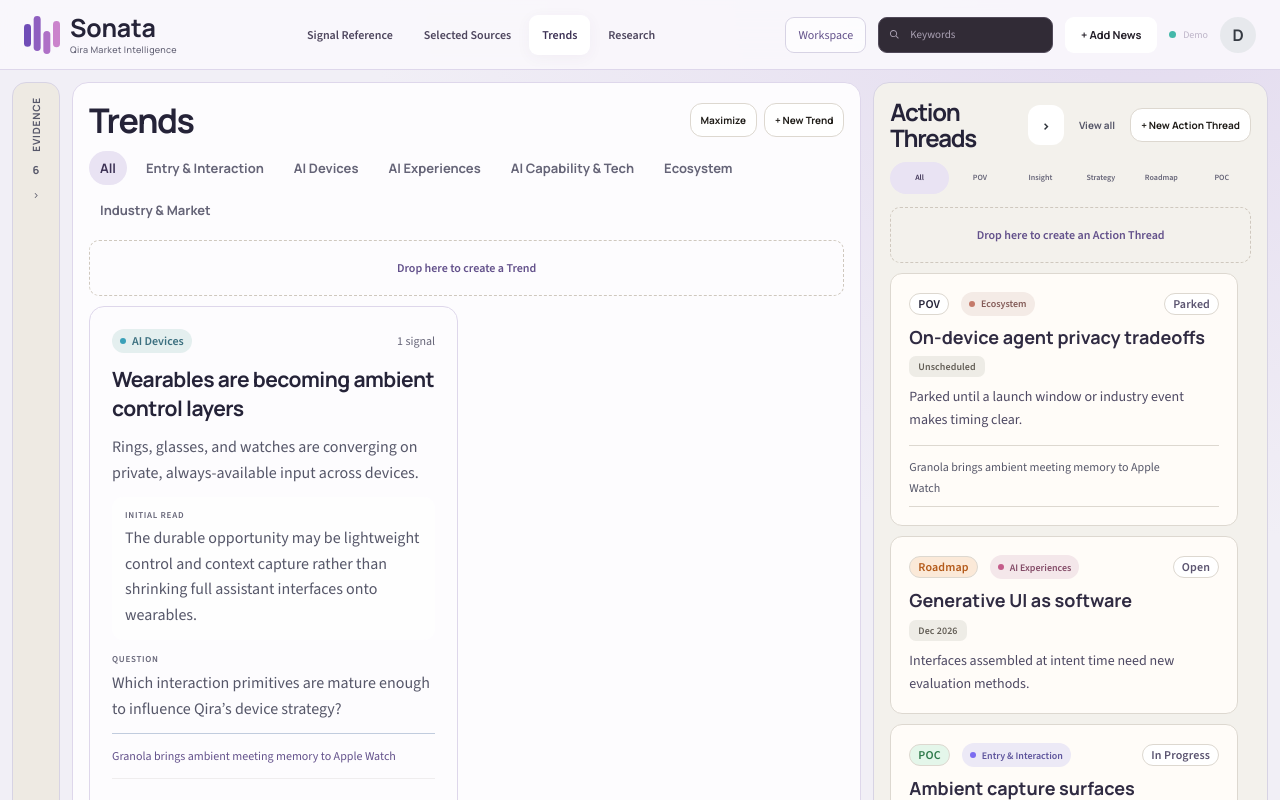
Test case: dashboard pilot shell › folds closed Action Threads below active work in the recent view
Click the heading "Generative UI as software": (1021, 600) top-left (909, 588), bottom-right (1132, 612)
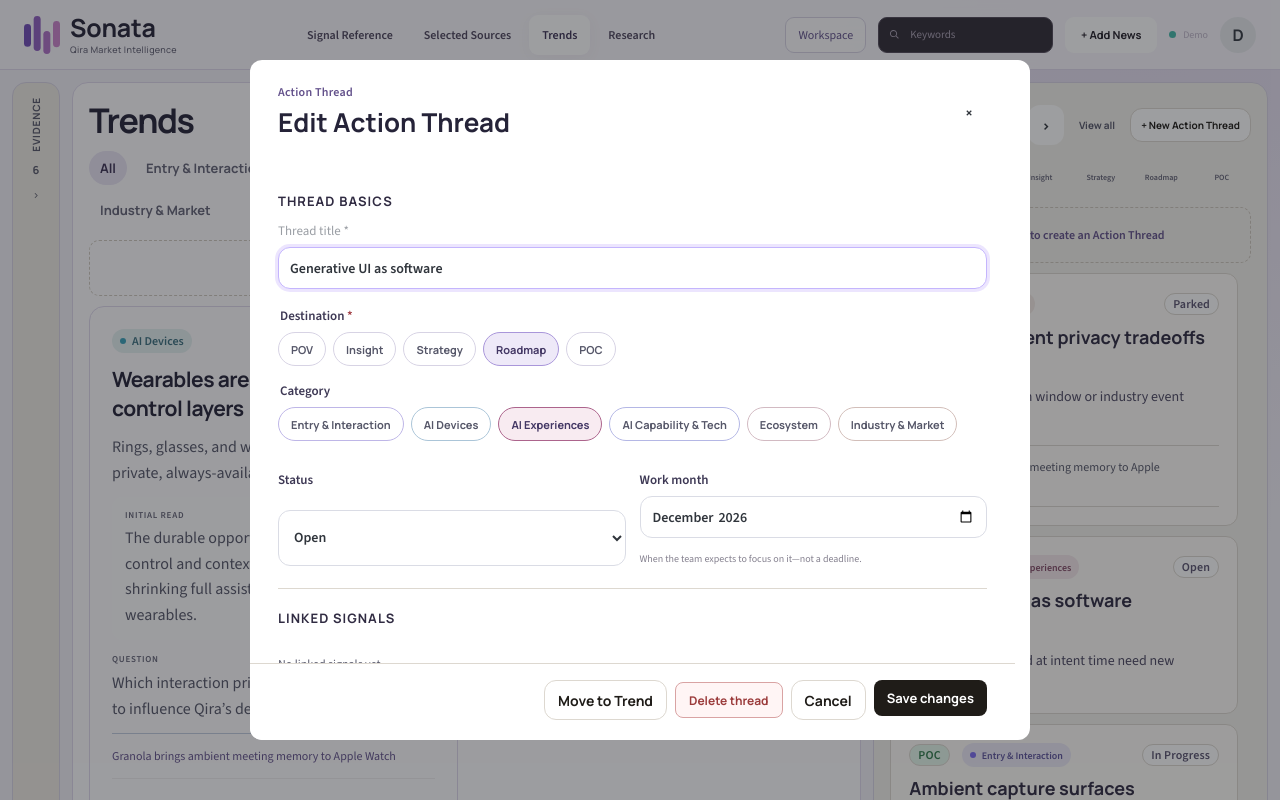
Select "Closed" in the dropdown labelled "Status": (452, 538) top-left (278, 510), bottom-right (626, 566)
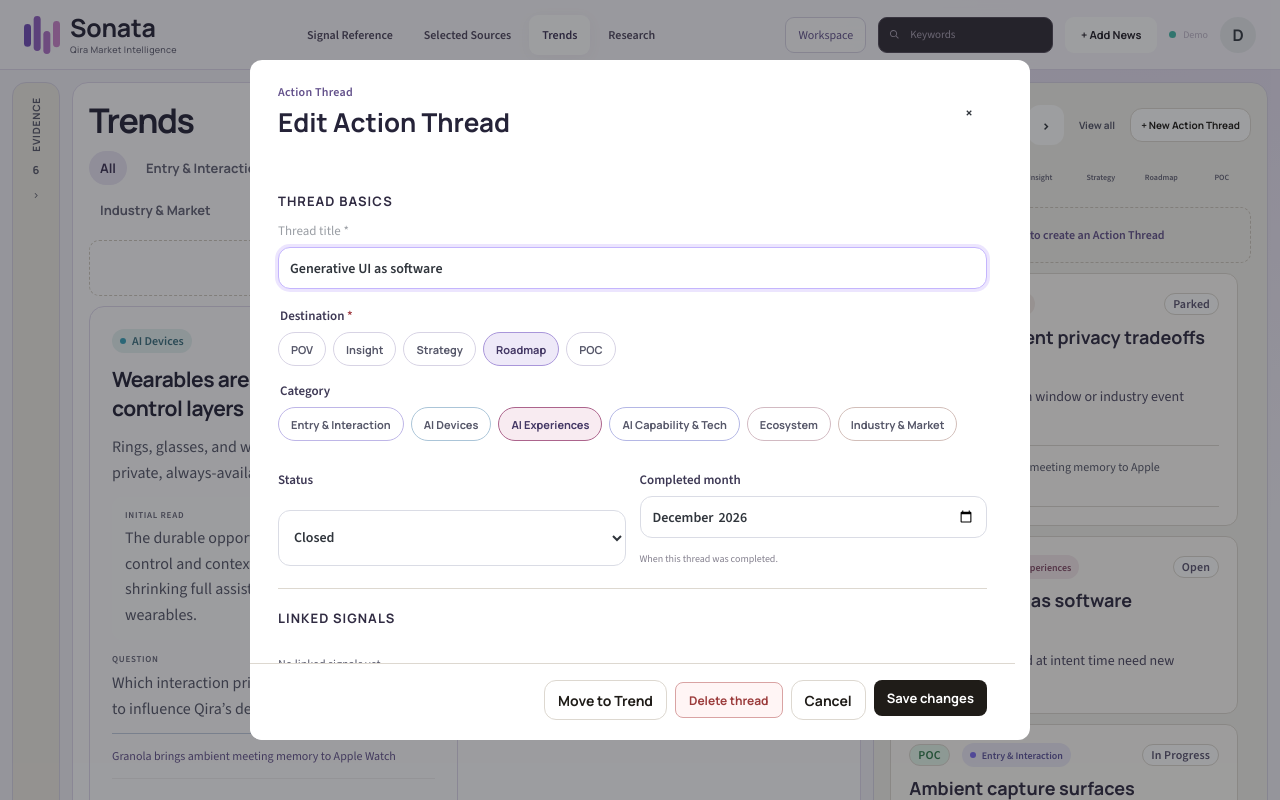
Click the button "Save changes": (930, 698) top-left (874, 680), bottom-right (987, 716)
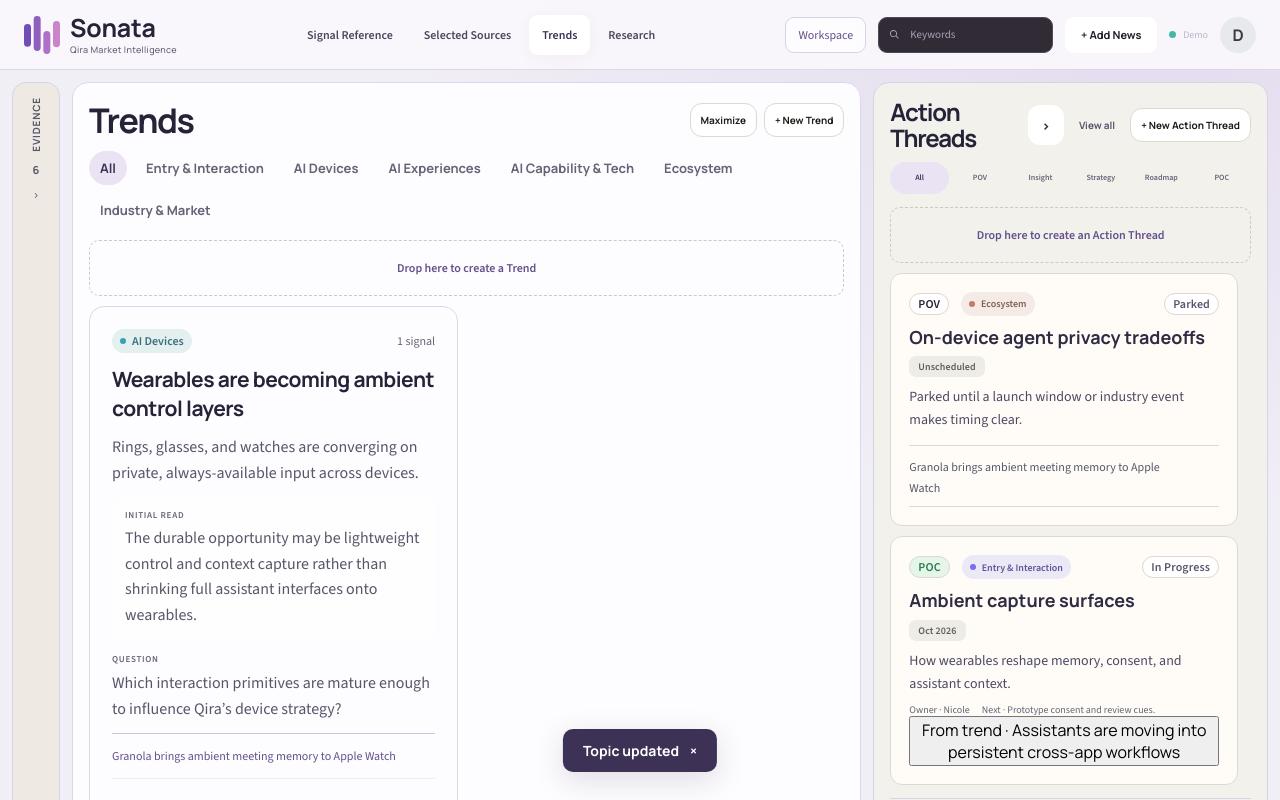
Check: the heading "Edit Action Thread" is gone
Click the button with aria-label "Open Action Threads dashboard": (1097, 125) top-left (1071, 108), bottom-right (1123, 142)
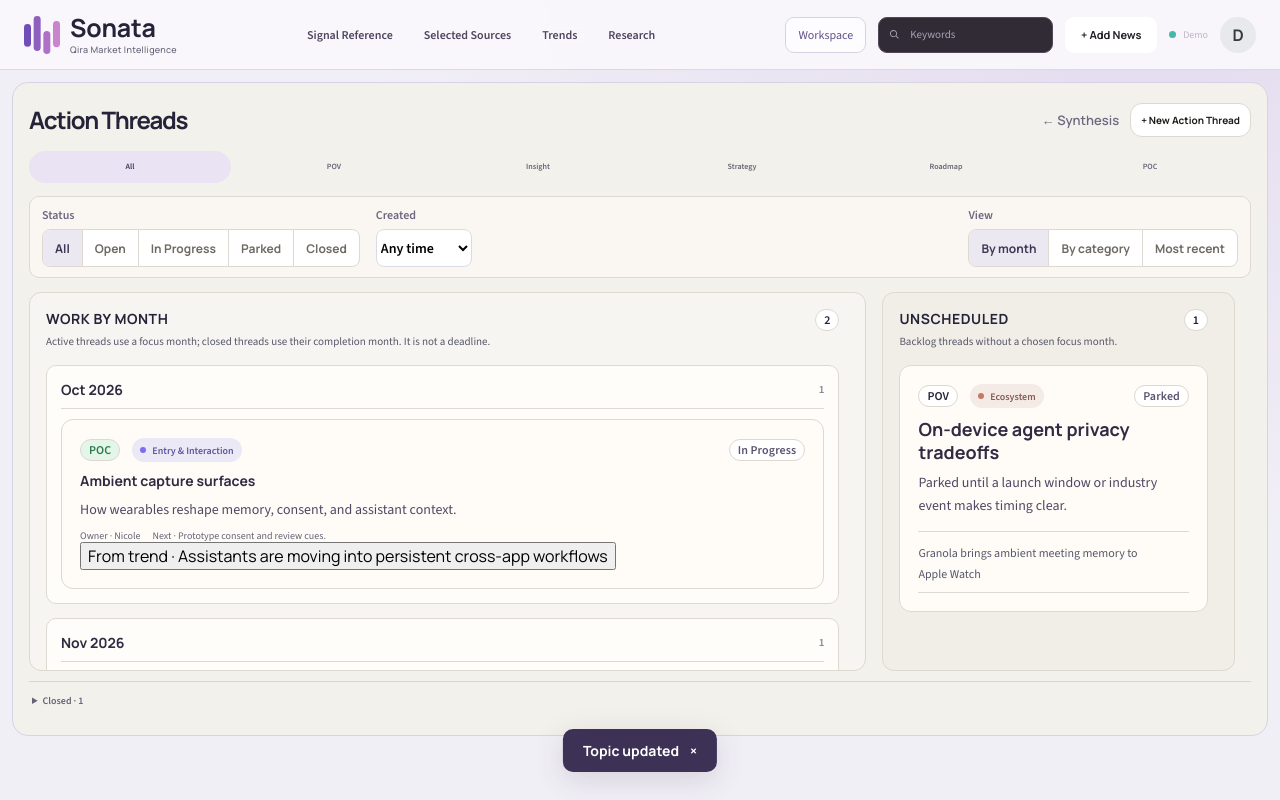
Click the button "Most recent": (1190, 248) top-left (1143, 230), bottom-right (1237, 266)
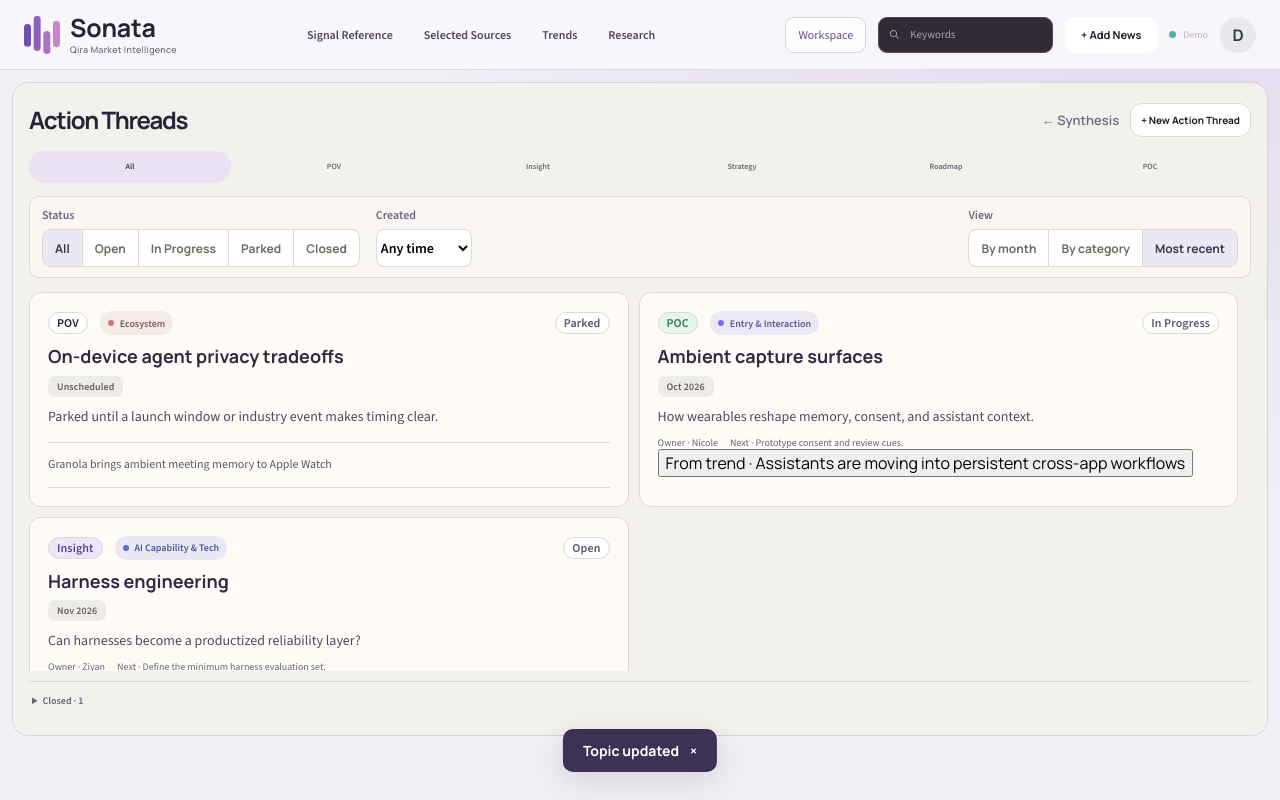
Click the heading "Closed · 1": (63, 700) top-left (43, 694), bottom-right (83, 707)
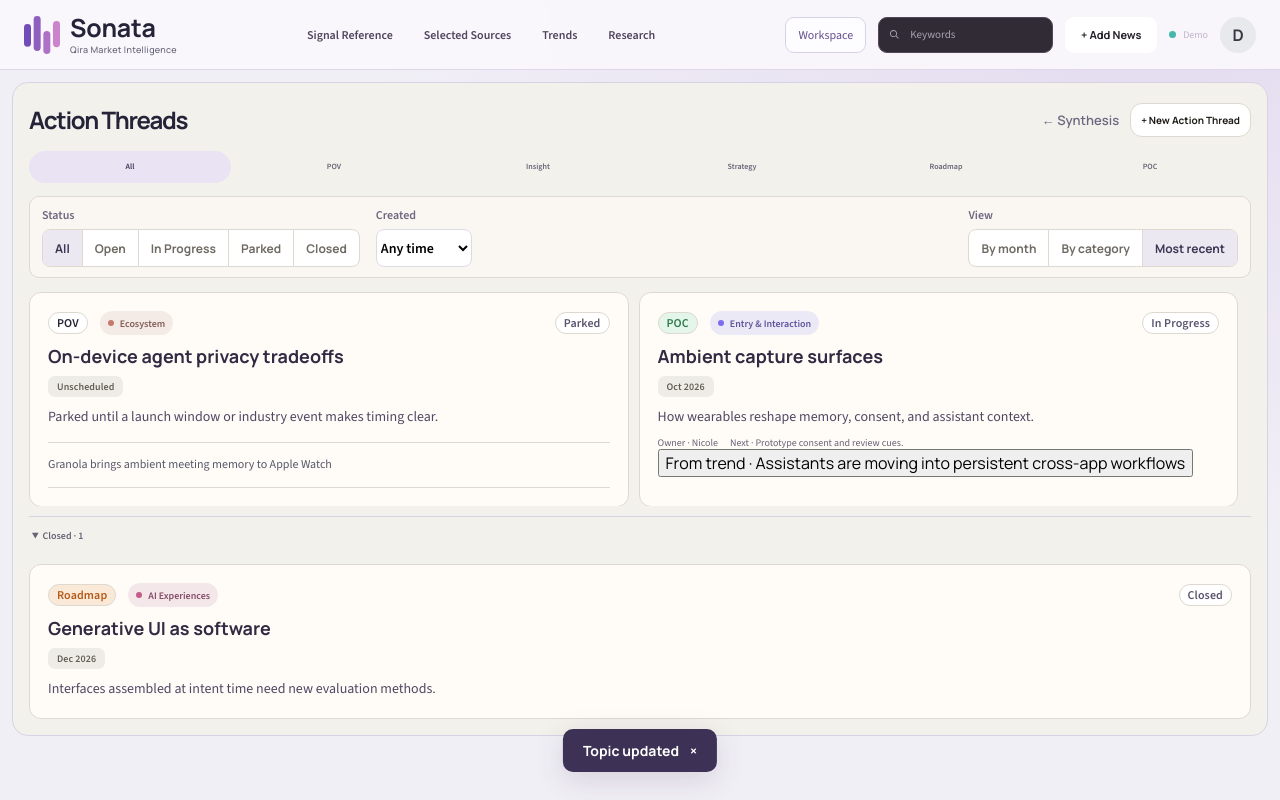
Check: the heading "Generative UI as software" is shown, box top-left (48, 616), bottom-right (271, 640)
